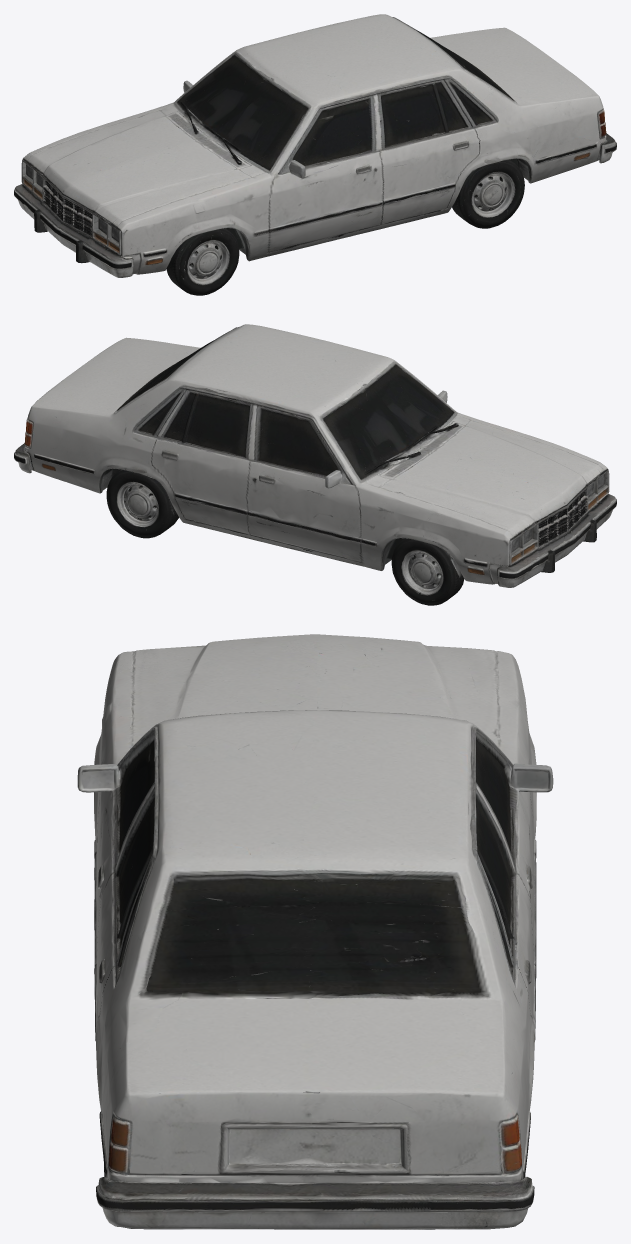
The model's file is berline.glb.
3 views of the same model, one above another, from view 1: azimuth 30°, elevation 25°; view 2: azimuth 150°, elevation 25°; view 3: azimuth 270°, elevation 25° (orthographic). The views are drawn at different scales.
Bounding box in the file's own units: 1.9 × 0.5679 × 0.767.
Materials: 1 (1 with a texture image).
